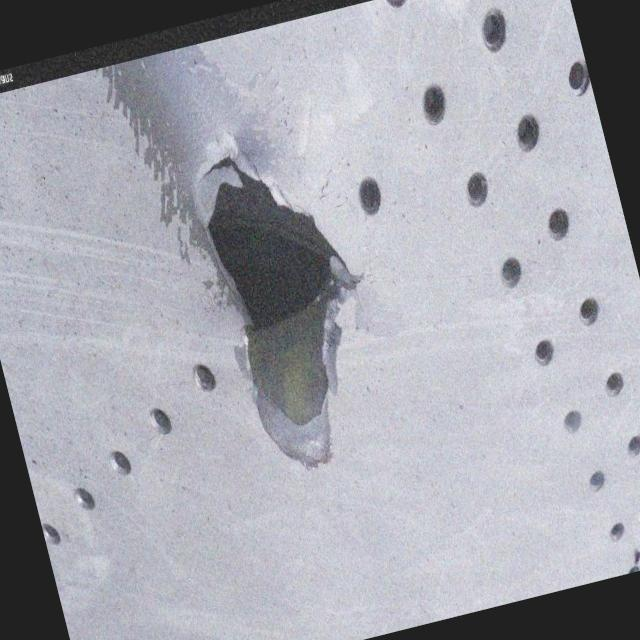crack: (176, 112, 410, 484)
